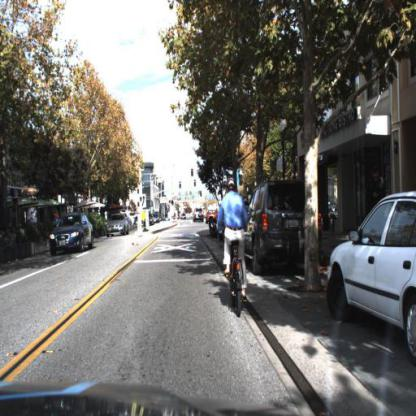biker: (217, 175, 252, 319)
car: (326, 191, 416, 369), (246, 183, 324, 267), (48, 210, 94, 258), (105, 211, 130, 235), (205, 207, 220, 223)
